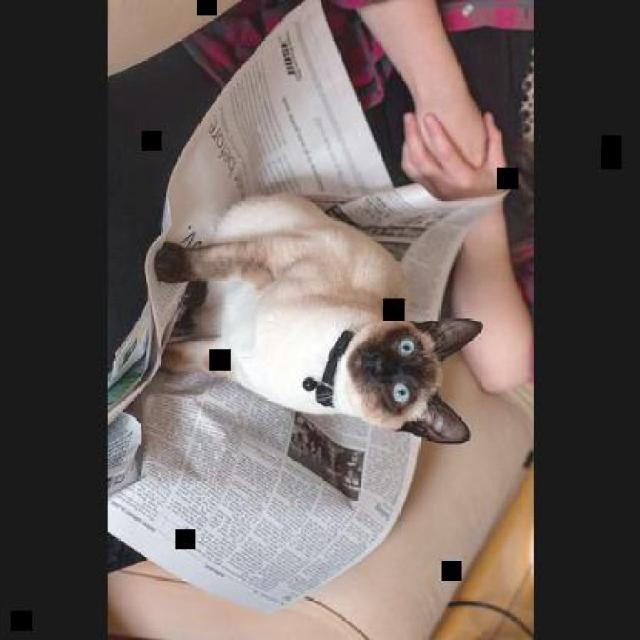unauthorized: (152, 190, 483, 444)
